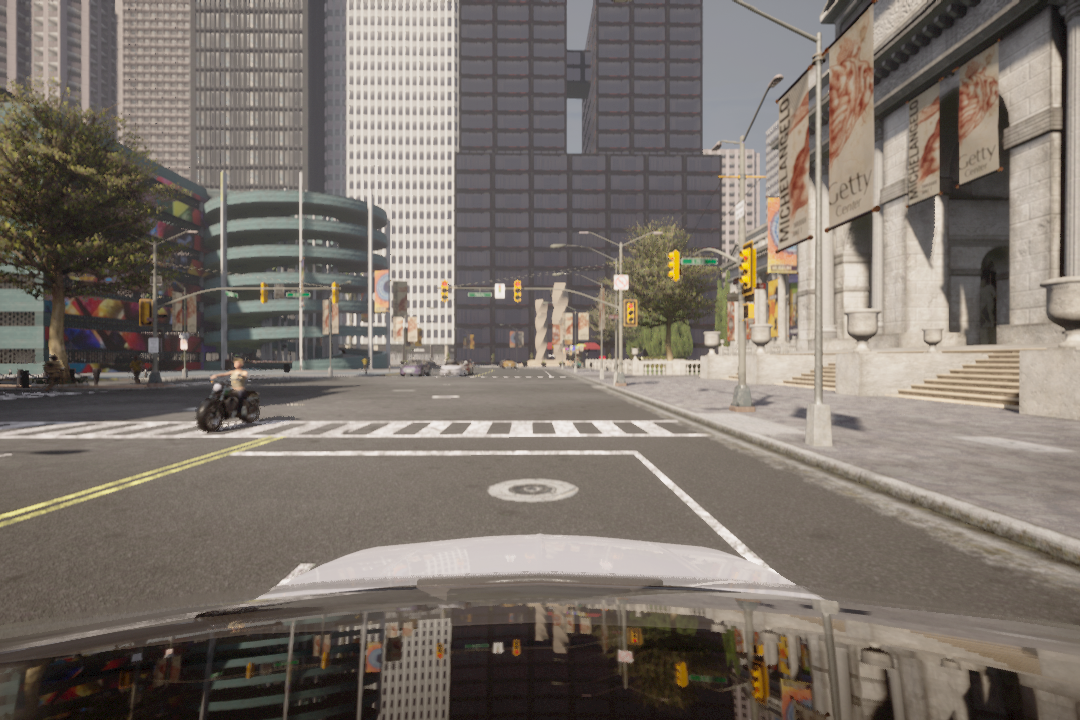TrafficLight: (738, 241, 757, 293), (668, 245, 680, 281), (624, 298, 638, 327), (514, 277, 524, 306), (440, 280, 451, 303)
TrafficSign: (613, 274, 631, 291)
walkside: (7, 417, 721, 445)
